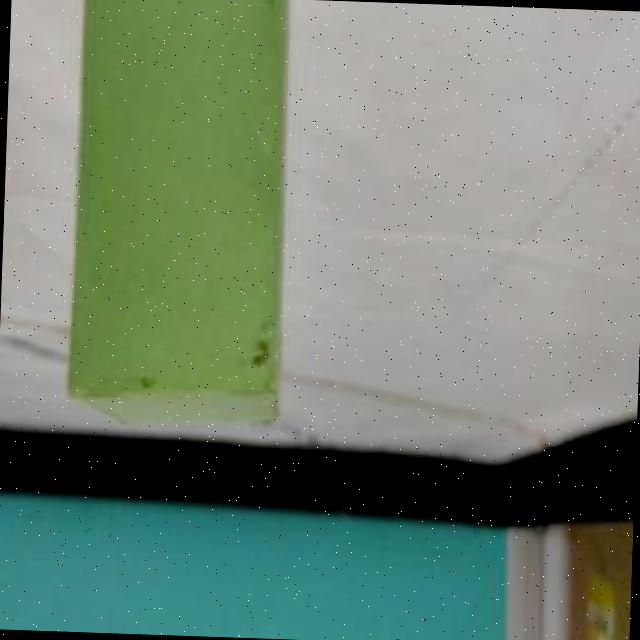greenbox: (67, 0, 294, 423)
